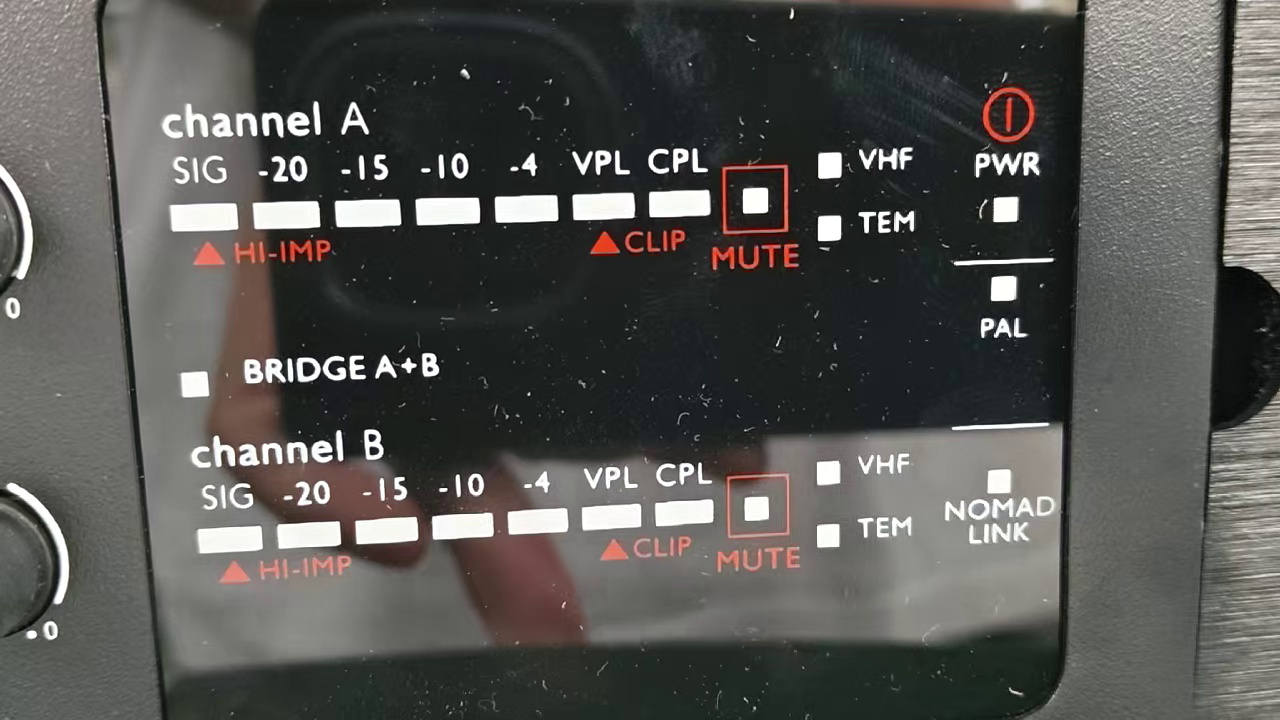FP_CPL: (640, 143, 712, 230), (648, 456, 720, 537)
FP_PWR: (961, 148, 1052, 231)
FP_PWR_area: (950, 81, 1059, 258)
FP_SIG_area: (185, 427, 915, 582), (158, 144, 926, 277)
FP_VPL: (566, 145, 639, 228), (577, 457, 644, 539)
